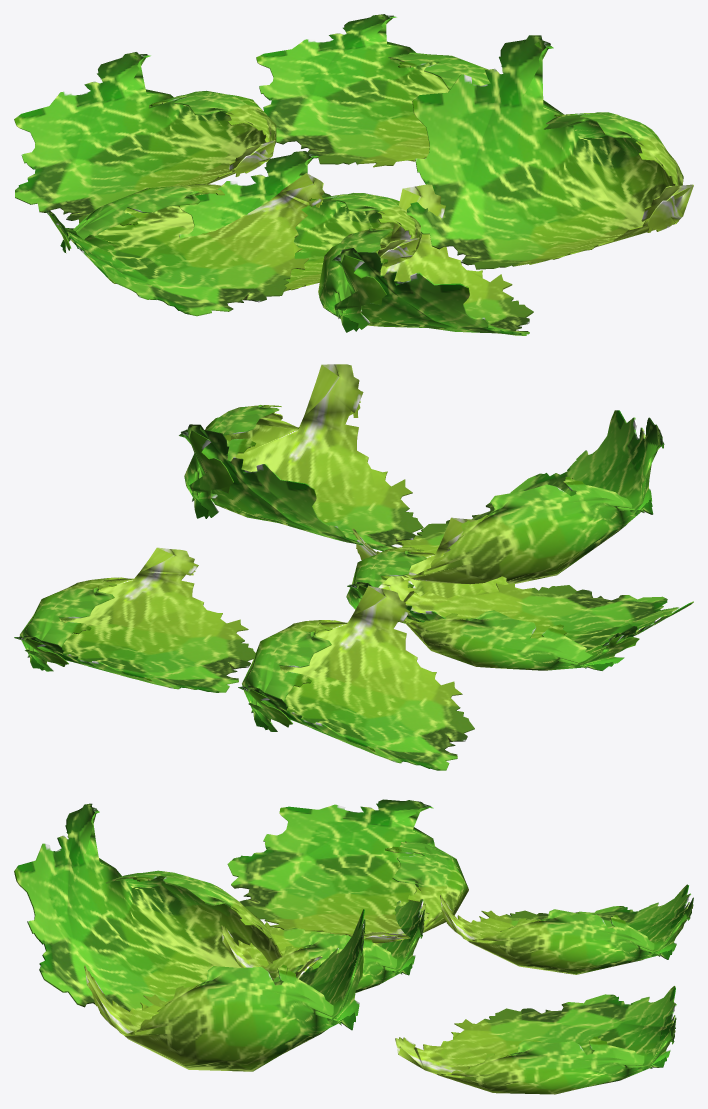
File: food leaves.FBX
3 renders of one model, top to bottom at view 1: azimuth 30°, elevation 25°; view 2: azimuth 150°, elevation 25°; view 3: azimuth 270°, elevation 25°, orthographic. The views are drawn at different scales.
Parts seen in each view (by area): view 1: Obj3d66-490131-7-16, Obj3d66-490131-8-615, Obj3d66-490131-11-892, Obj3d66-490131-12-745, Obj3d66-490131-10-738, Obj3d66-490131-9-807; view 2: Obj3d66-490131-7-16, Obj3d66-490131-8-615, Obj3d66-490131-10-738, Obj3d66-490131-12-745, Obj3d66-490131-11-892, Obj3d66-490131-9-807; view 3: Obj3d66-490131-10-738, Obj3d66-490131-11-892, Obj3d66-490131-7-16, Obj3d66-490131-12-745, Obj3d66-490131-8-615, Obj3d66-490131-9-807.
Boxes of the visible parts, x1,y1,x2,y2 form: Obj3d66-490131-7-16: (407,35,693,269); Obj3d66-490131-8-615: (14,52,276,223); Obj3d66-490131-11-892: (45,173,324,316); Obj3d66-490131-12-745: (256,14,500,167); Obj3d66-490131-10-738: (318,184,533,335); Obj3d66-490131-9-807: (179,151,421,291); Obj3d66-490131-7-16: (179,364,423,551); Obj3d66-490131-8-615: (238,585,474,770); Obj3d66-490131-10-738: (352,410,664,584); Obj3d66-490131-12-745: (14,547,255,692); Obj3d66-490131-11-892: (378,576,693,670); Obj3d66-490131-9-807: (346,517,521,623); Obj3d66-490131-10-738: (14,803,322,1011); Obj3d66-490131-11-892: (227,799,468,943); Obj3d66-490131-7-16: (84,909,365,1071); Obj3d66-490131-12-745: (395,986,676,1094); Obj3d66-490131-8-615: (440,884,693,974); Obj3d66-490131-9-807: (221,891,424,992).
Size of the model in its own units: 96.92 by 29.13 by 112.
Materials: 1 (1 with a texture image).
